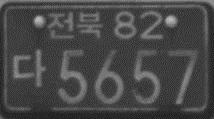2: (139, 9, 164, 41)
5: (129, 48, 162, 104), (58, 48, 88, 103)
6: (95, 49, 123, 106)
7: (165, 47, 198, 106)
8: (114, 10, 137, 41)
다: (12, 48, 47, 88)
전북_O: (47, 10, 103, 41)
